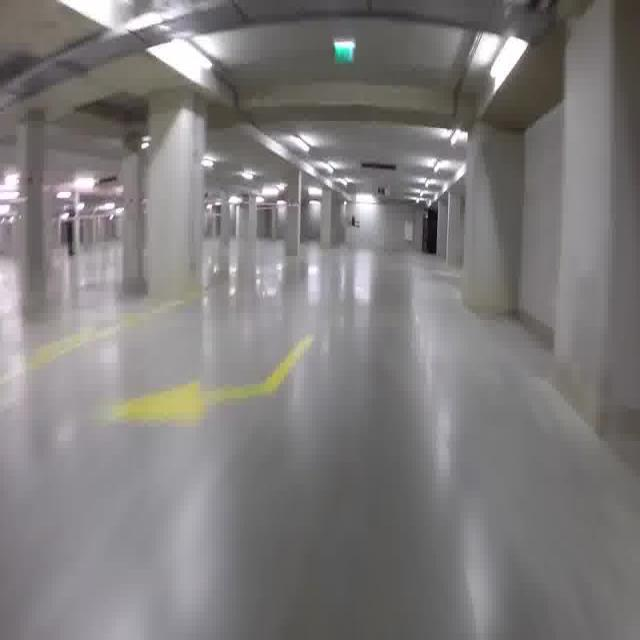drones: (342, 207, 364, 235)
